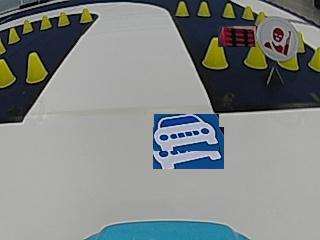evil: (257, 16, 298, 61)
